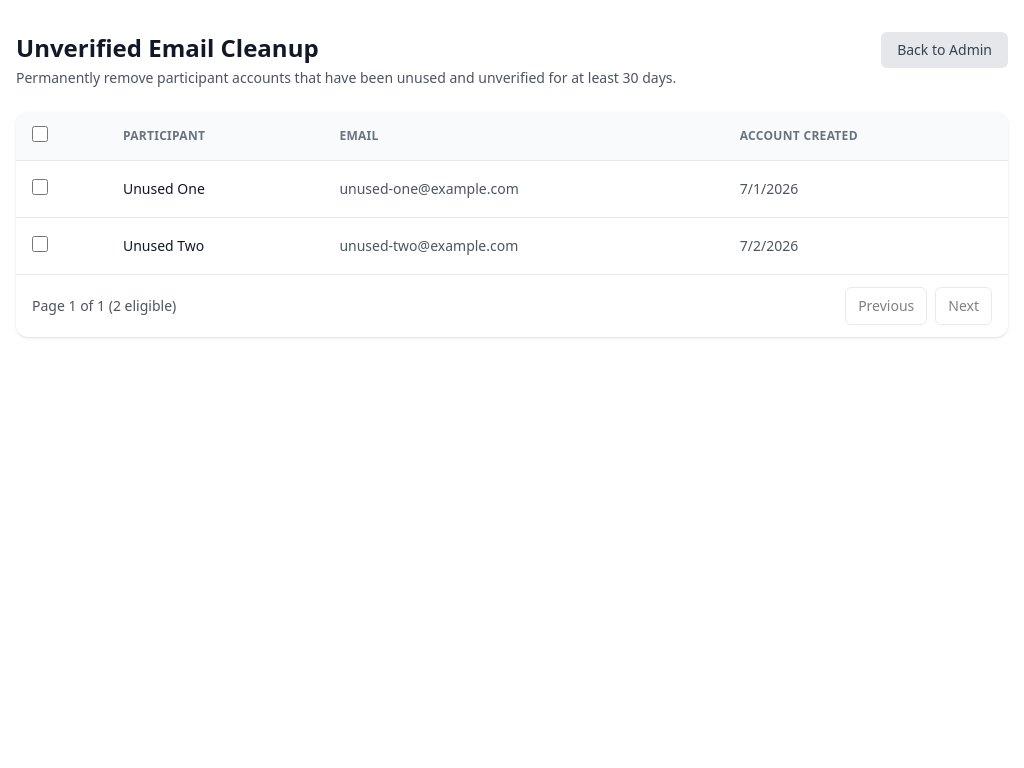
Test: AdminUnverifiedUserCleanupPage › should delete selected accounts and report skipped reasons
Expected: the text "Unused One" is shown, x1=107 y1=160 x2=323 y2=218
Click the checkbox named "Select all unused accounts on this page". click: (40, 134)
box: x1=32 y1=126 x2=48 y2=142
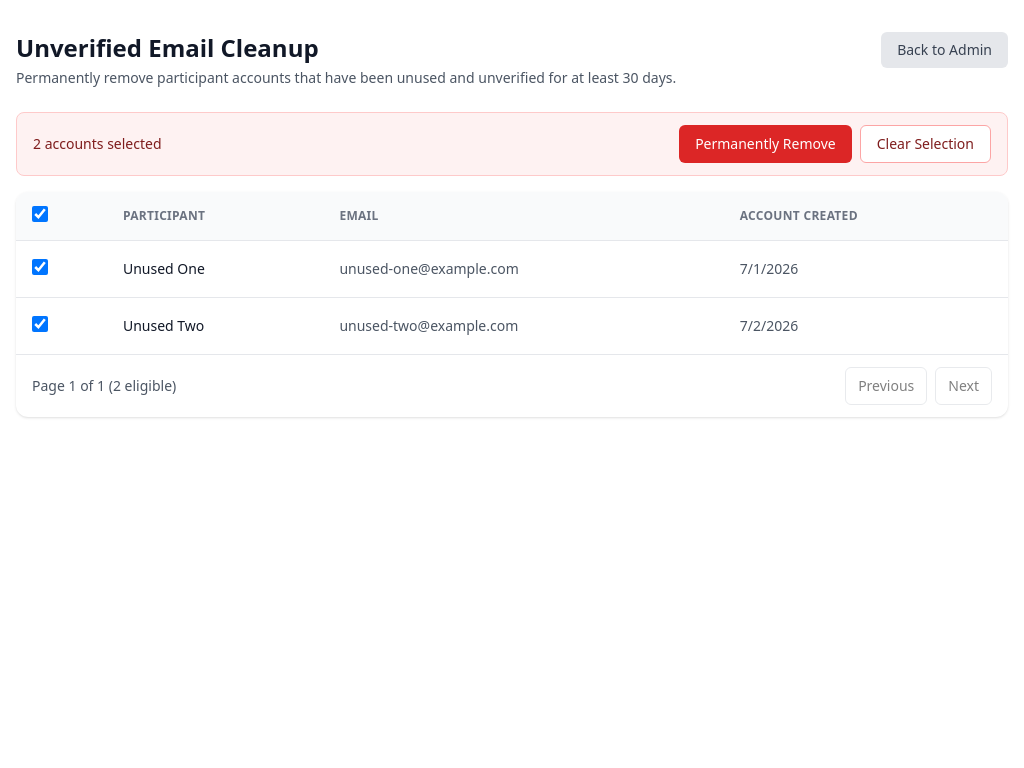
Click the button "Permanently Remove". click: (765, 144)
box: x1=679 y1=125 x2=852 y2=163
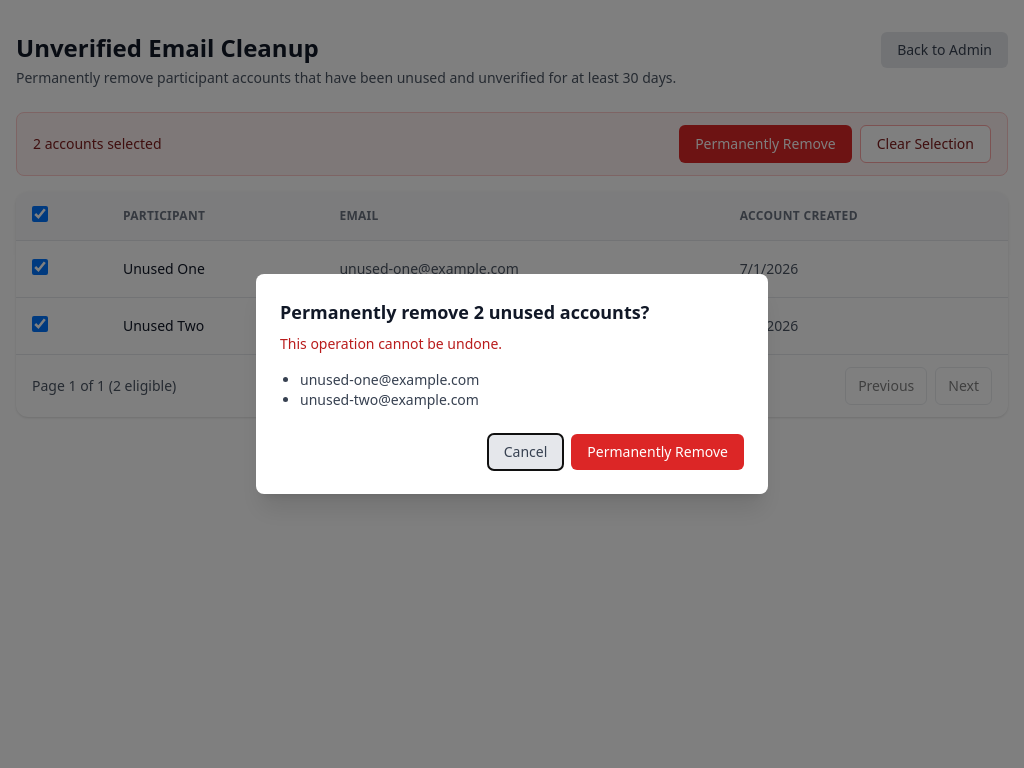
Click the button "Permanently Remove". click: (658, 452)
box: x1=571 y1=434 x2=744 y2=470
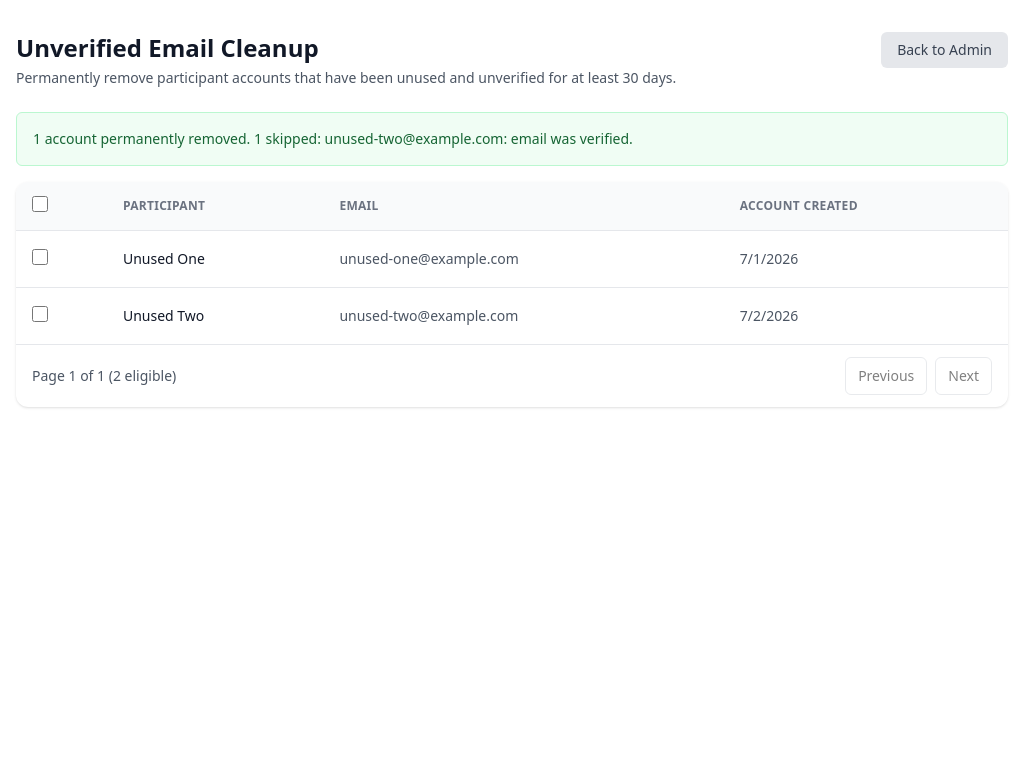
Now the message shows "1 account permanently removed. 1 skipped: unused-two@example.com: email was verified.", box x1=33 y1=129 x2=633 y2=148
